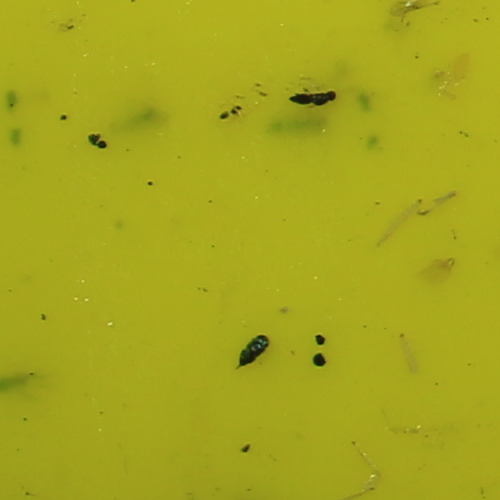wasp: (236, 335, 275, 365)
